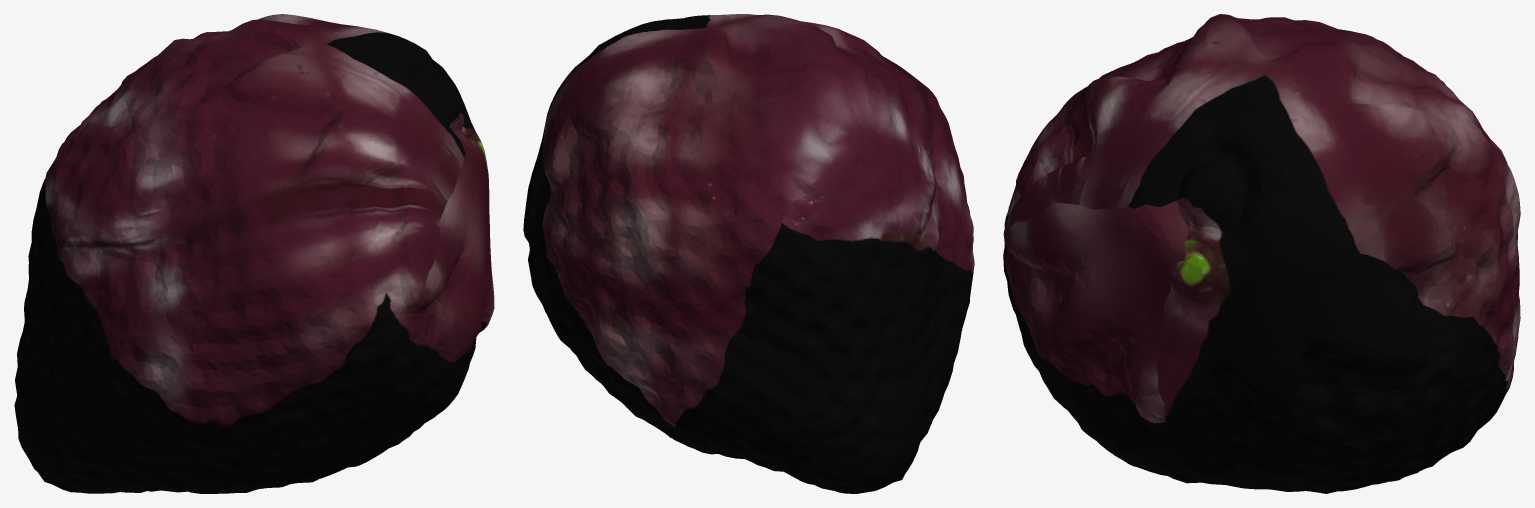
The picture shows the model from 3 angles, left to right: view 1: azimuth 30°, elevation 25°; view 2: azimuth 150°, elevation 25°; view 3: azimuth 270°, elevation 25°; orthographic projection. The views are drawn at different scales.
Parts seen in each view (by area): view 1: node; view 2: node; view 3: node.
Boxes of the visible parts, x1,y1,x2,y2 form: node: (14, 14, 494, 493); node: (523, 14, 974, 493); node: (1003, 14, 1520, 493).
Bounding box in the file's own units: 0.0452 × 0.0453 × 0.0457.
